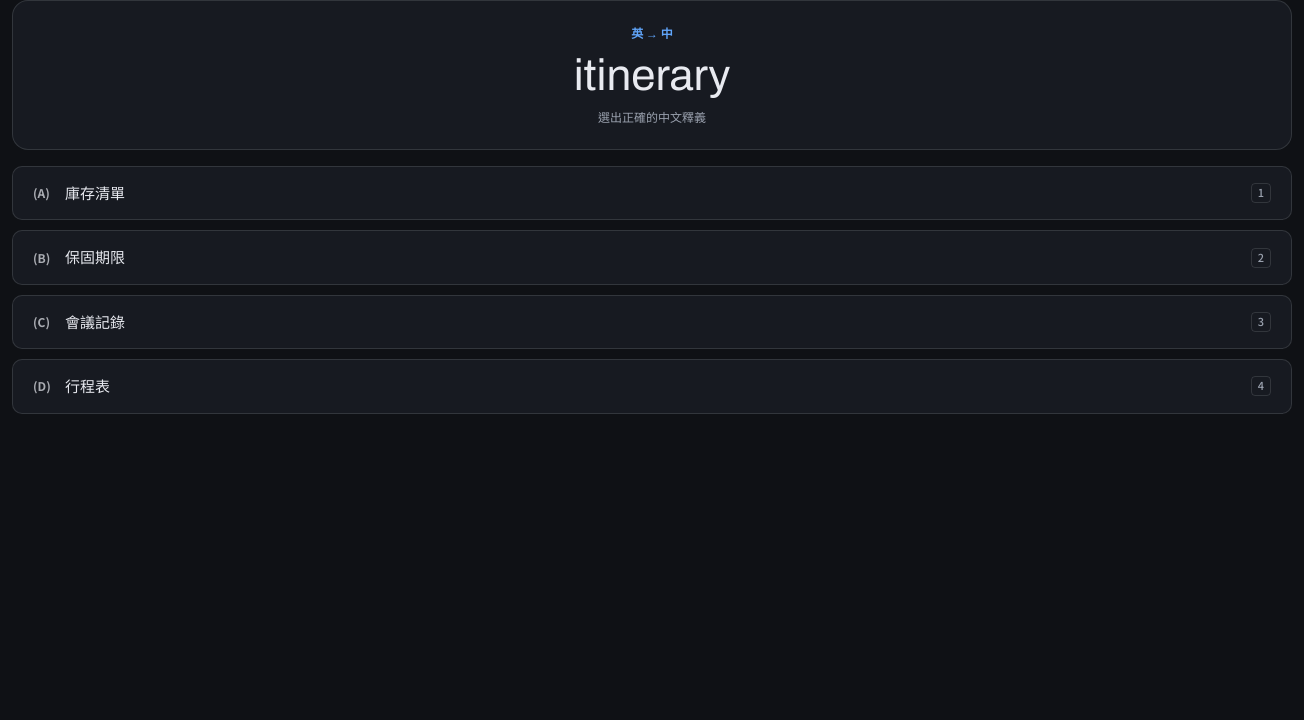
Scenario: VocabQuiz › locks the options with aria-disabled so the verdict stays readable
This screenshot has width=1304, height=720.
Step 1. Click the text "行程表" → (88, 386), box [65,375,110,396]
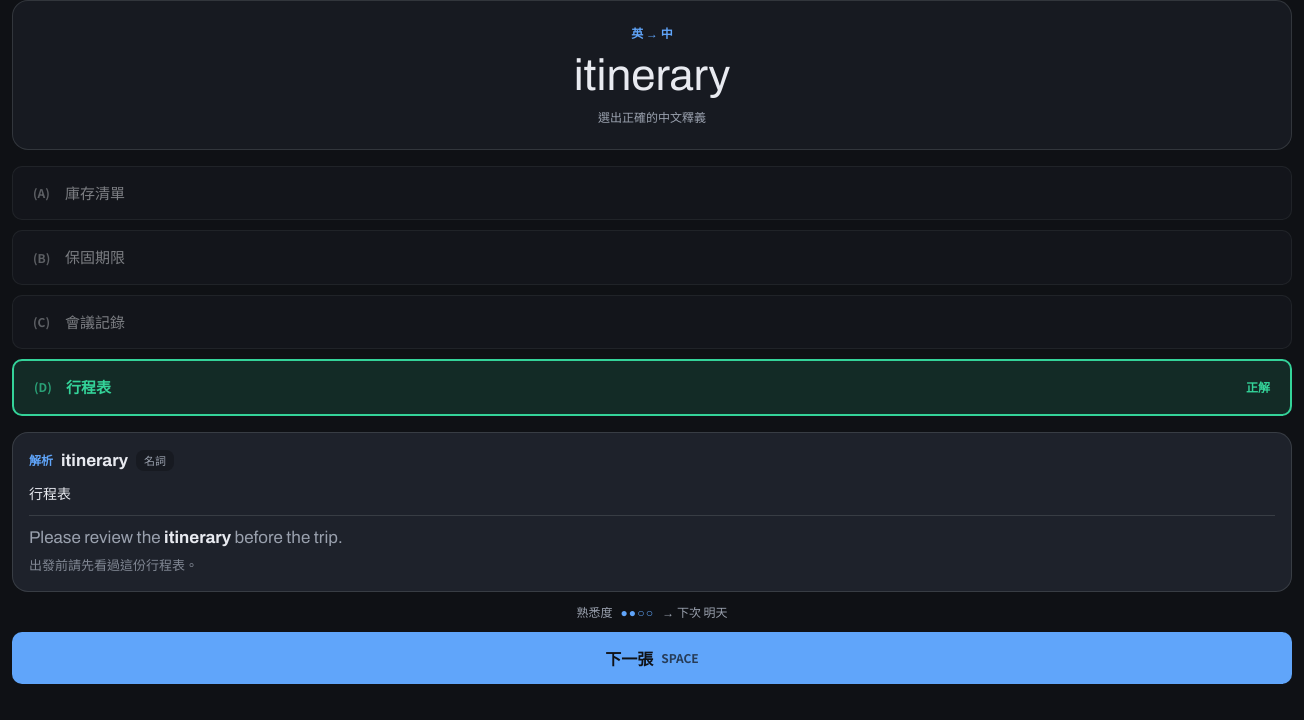
Expected: the button "(A) 庫存清單" is enabled, [12,166,1292,220]
Expected: the button "(B) 保固期限" is enabled, [12,230,1292,285]
Expected: the button "(C) 會議記錄" is enabled, [12,295,1292,349]
